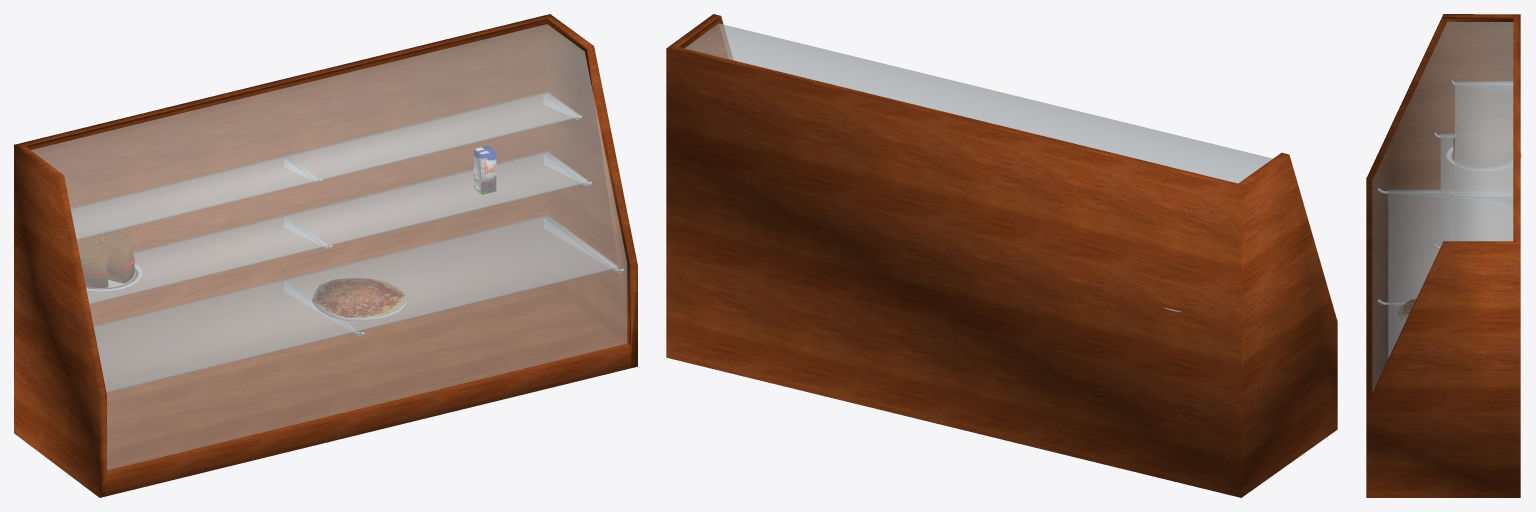
Rendered from Balcao-lanche.fbx.
3 views of the same model, side by side, from view 1: azimuth 30°, elevation 25°; view 2: azimuth 150°, elevation 25°; view 3: azimuth 270°, elevation 25° (orthographic). The views are drawn at different scales.
Visible parts, largest first — view 1: Plane_036, Layer0_001, shelf_holder_metal_1_004, Cylinder_008, cake_inner_001, Group_002; view 2: Layer0_001, Plane_036; view 3: Layer0_001, Plane_036, shelf_holder_metal_1_004, Cylinder_008.
Part boxes in pixels (x1,y1,x2,y2): Plane_036: [31, 24, 627, 470]; Layer0_001: [14, 14, 637, 497]; shelf_holder_metal_1_004: [71, 91, 624, 392]; Cylinder_008: [311, 278, 407, 321]; cake_inner_001: [77, 230, 142, 292]; Group_002: [474, 146, 496, 194]; Layer0_001: [666, 14, 1337, 497]; Plane_036: [685, 23, 1272, 183]; Layer0_001: [1366, 14, 1520, 497]; Plane_036: [1372, 21, 1513, 392]; shelf_holder_metal_1_004: [1377, 80, 1513, 358]; Cylinder_008: [1398, 298, 1416, 324].
Bounding box in the file's own units: 108 × 55.42 × 30.72.
